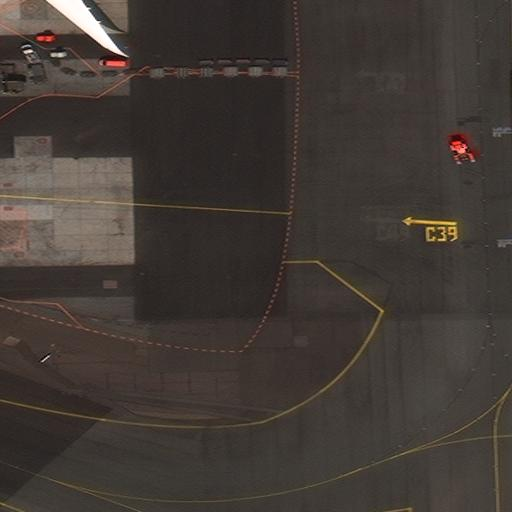Large Civil Transport: (0, 0, 179, 58)
